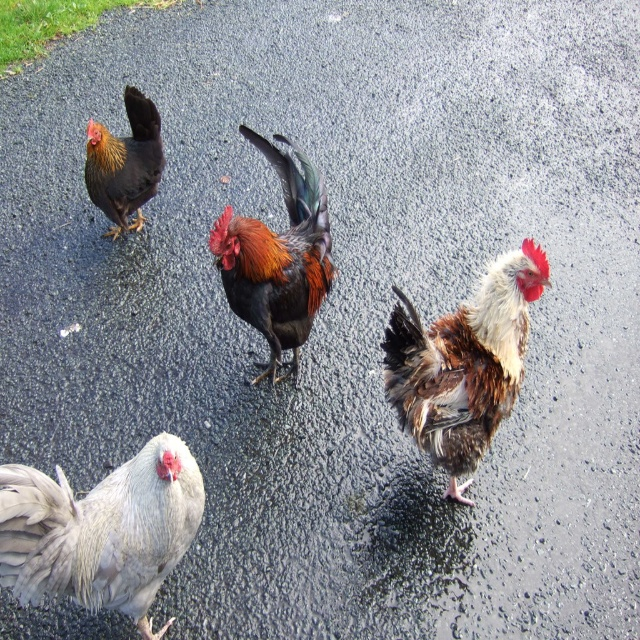Chicken: (370, 236, 544, 524), (0, 427, 205, 639), (204, 122, 336, 394), (84, 82, 168, 250)
